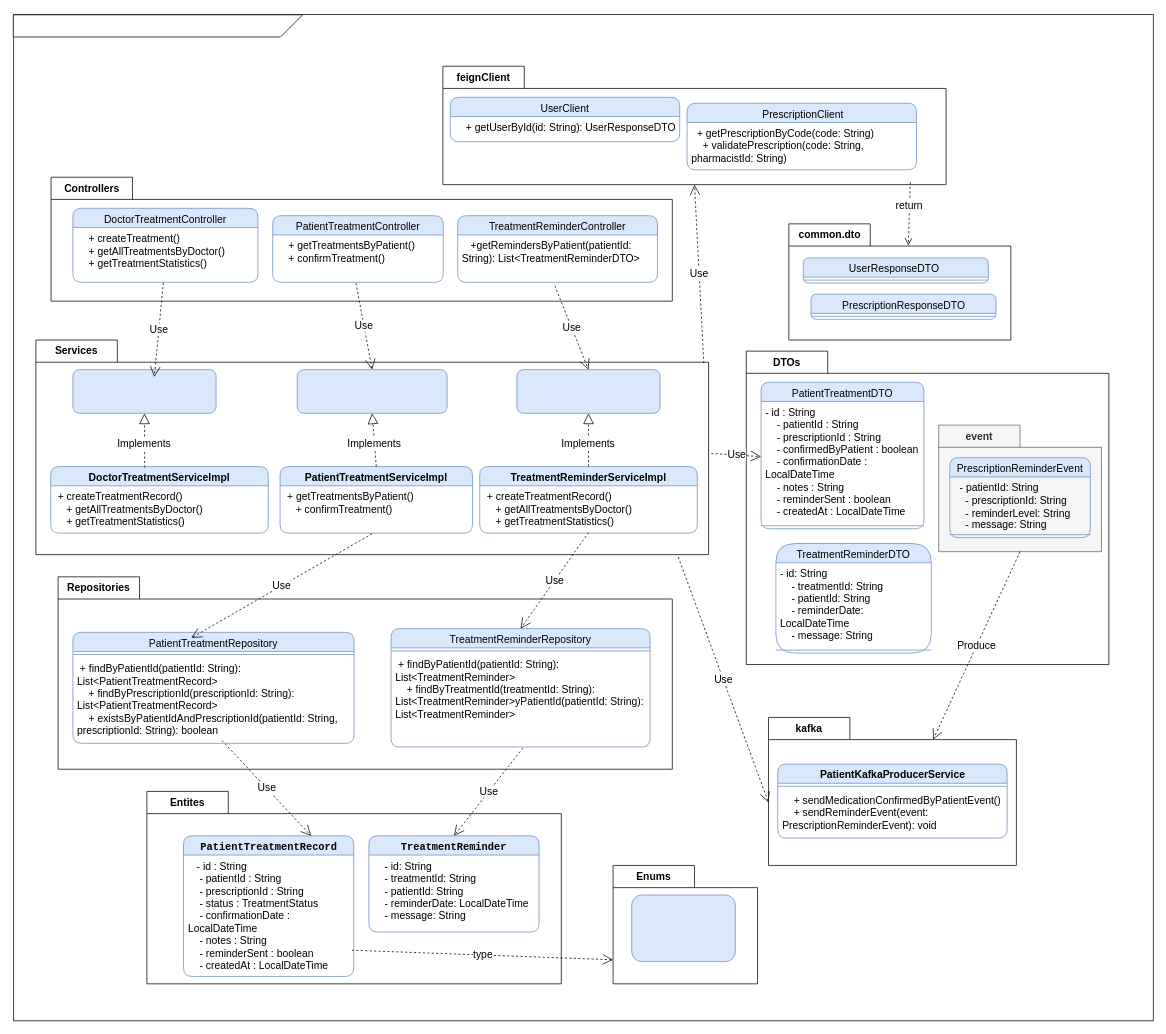
The diagram is 1166 pixels wide and 1034 high, and some of its shapes have lost their labels. The centre of each missing label's shape, as x and y in pixels:
<<Enumeration>> TreatmentStatus PENDING CONFIRMED: the point at 683,928
Patient-service -DC: the point at 158,25
«interface» DoctorTreatmentService: the point at 144,391
«interface» PatientTreatmentService: the point at 372,391
«interface» TreatmentReminder Service: the point at 588,391
